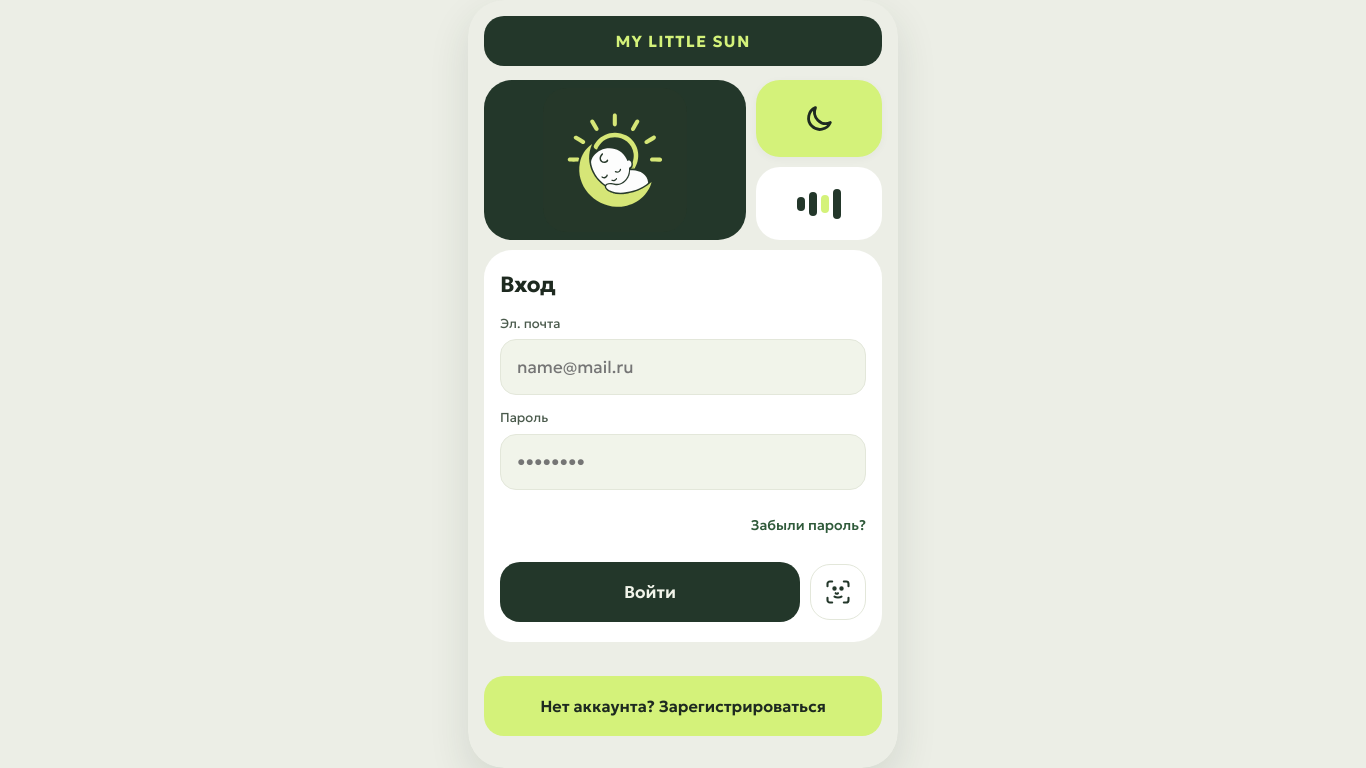
LoginPage Component › displays error in modal when resetPasswordApi fails
Click the link with test id "forgot-password-btn".
click(808, 525)  # box [751,516,866,534]
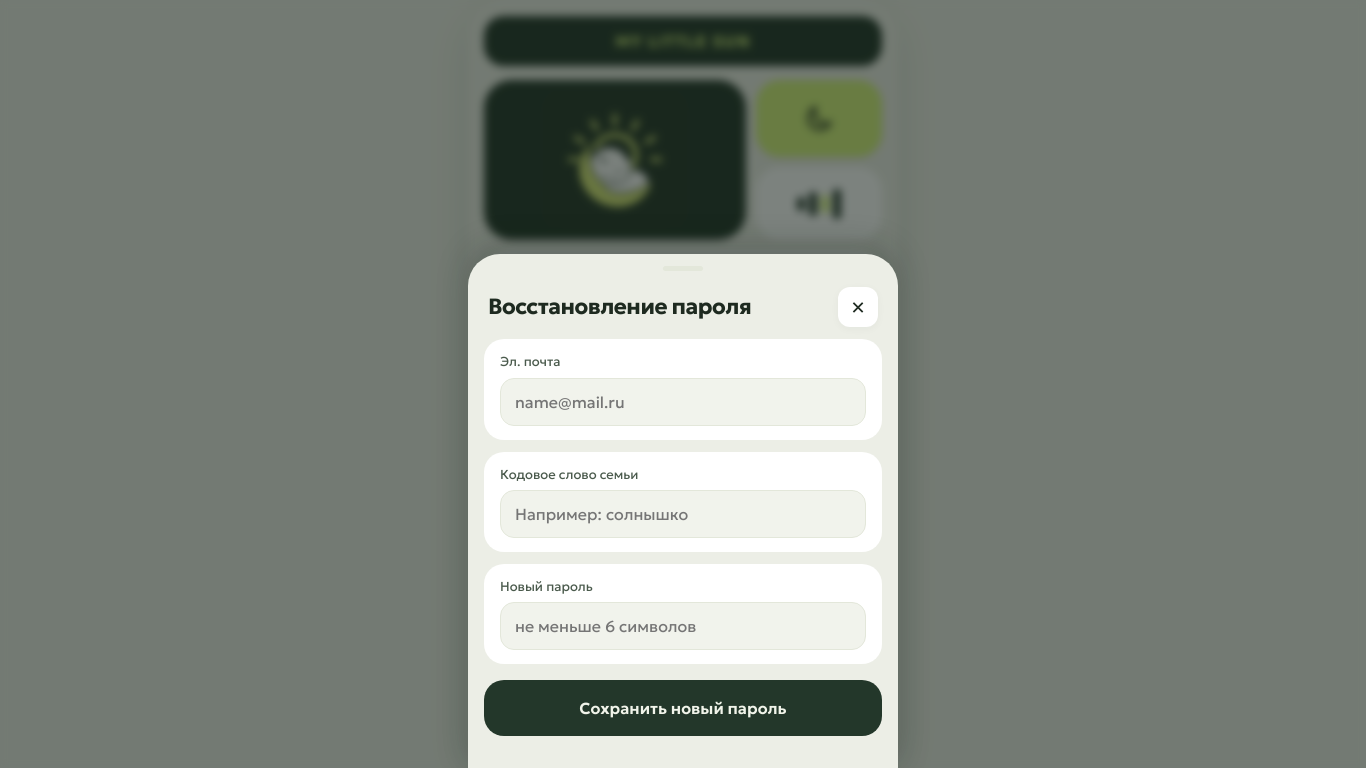
Type "mama@mail.ru" into the field with test id "reset-password-email".
click(683, 402); type("mama@mail.ru")  # box [500,378,866,426]
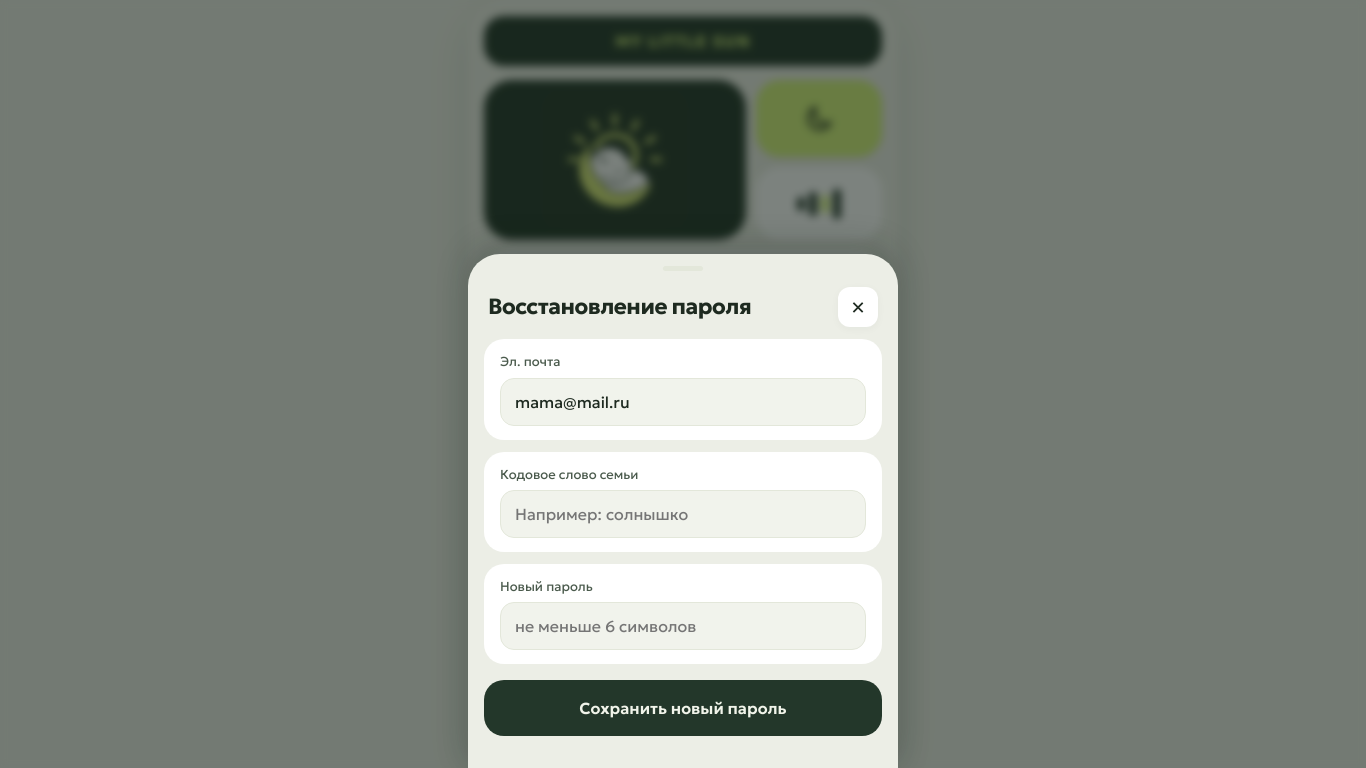
Type "wrong-word" into the field with test id "reset-password-code".
click(683, 514); type("wrong-word")  # box [500,490,866,538]
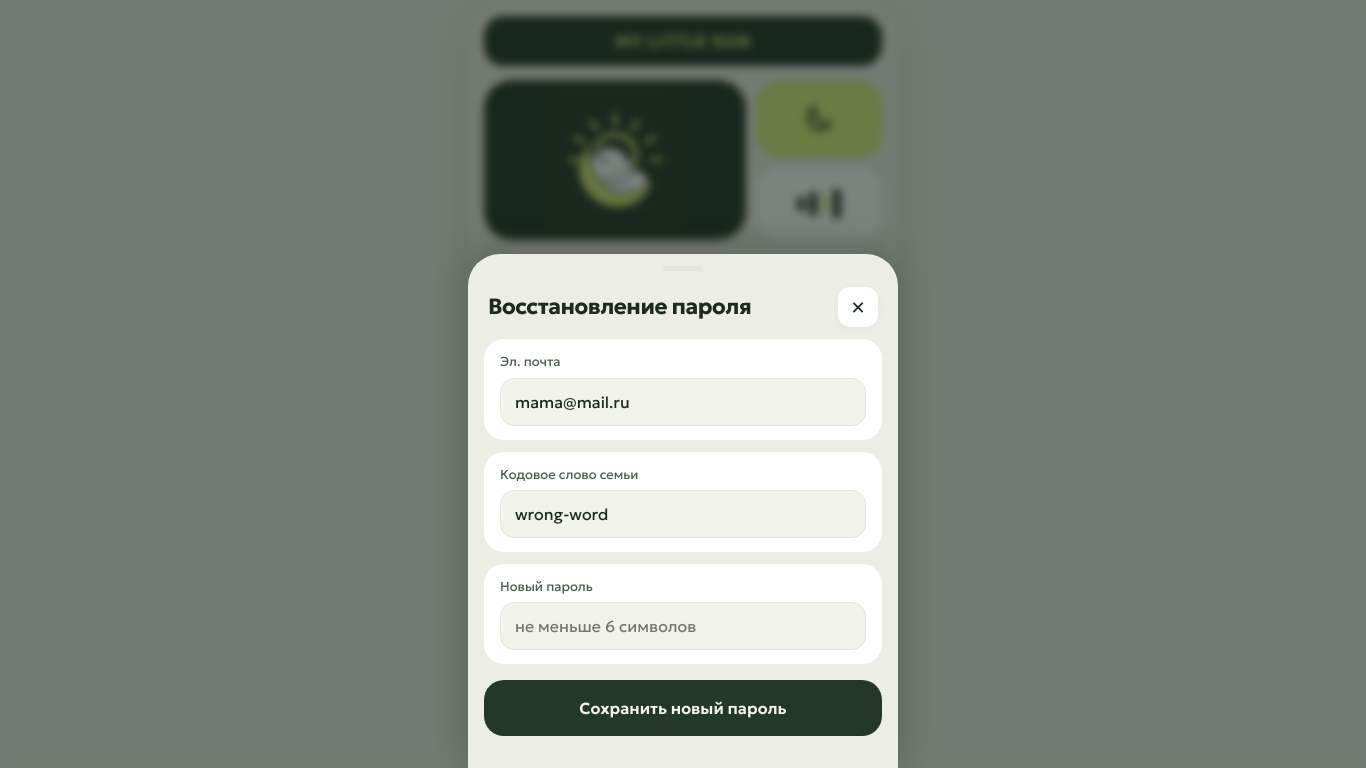
Type "newpassword123" into the password field with test id "reset-password-new-password".
click(683, 626); type("newpassword123")  # box [500,602,866,650]
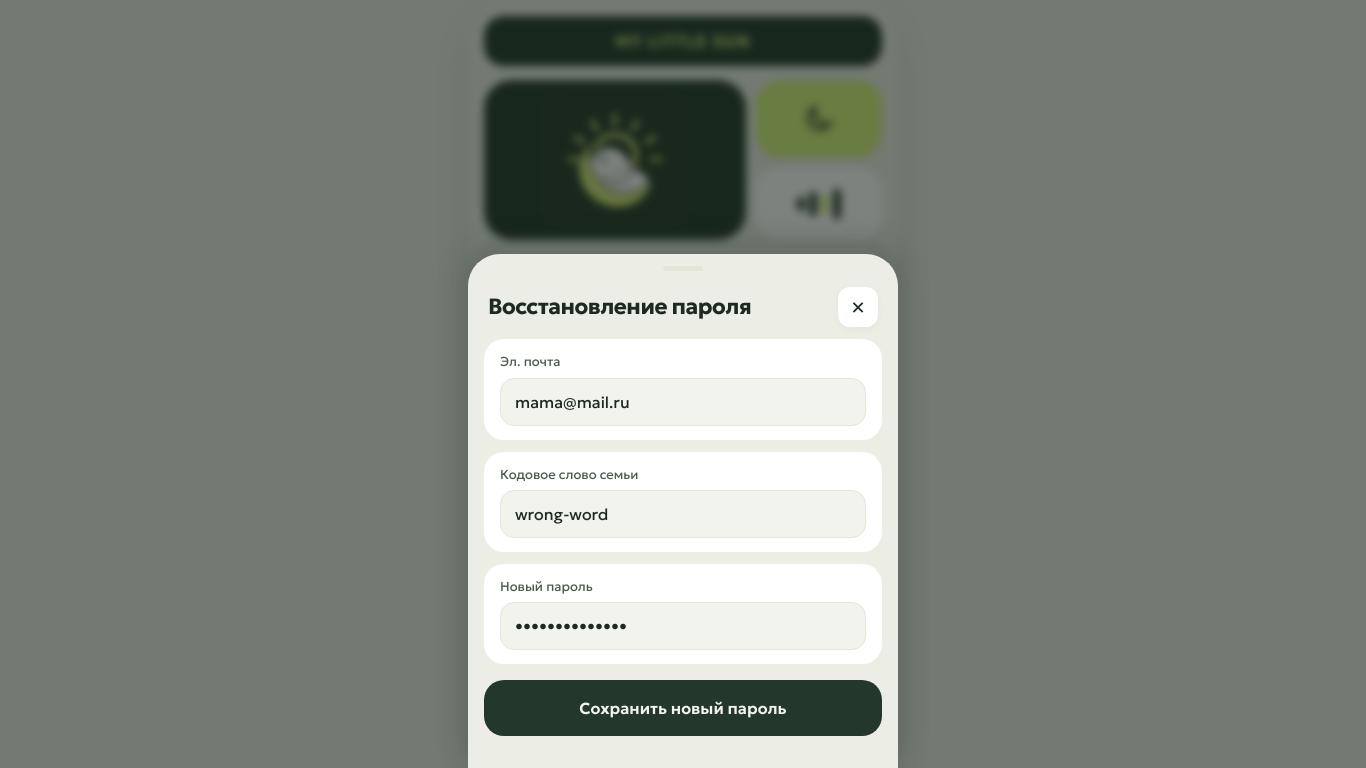
Click the button with test id "reset-password-submit-btn".
click(683, 708)  # box [484,680,882,736]
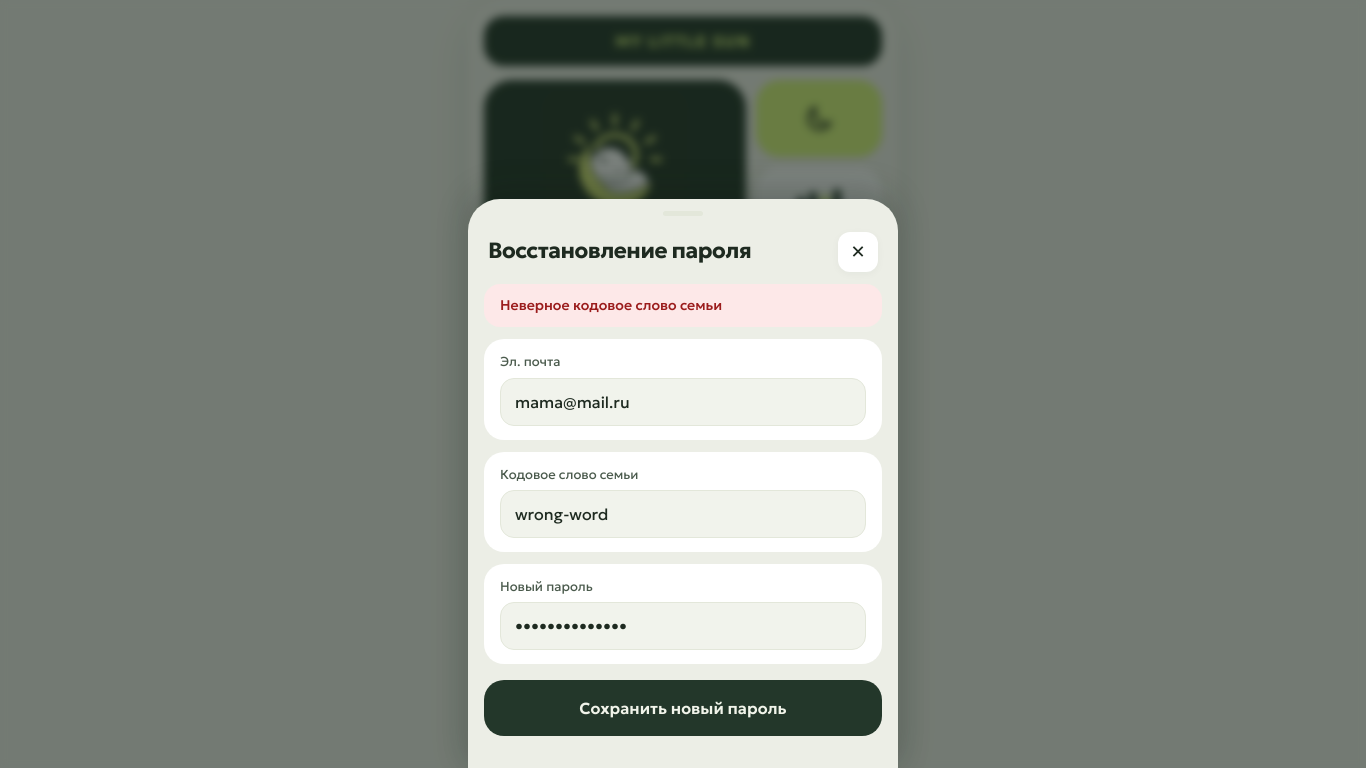
Now the text with test id "reset-password-error" reads "Неверное кодовое слово семьи", box [500,296,722,314]
